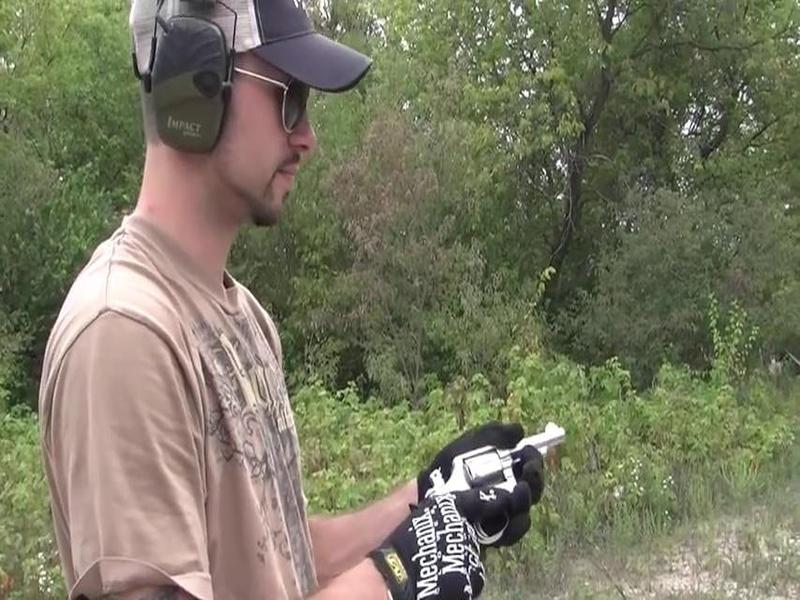Revolver: (425, 404, 582, 528)
